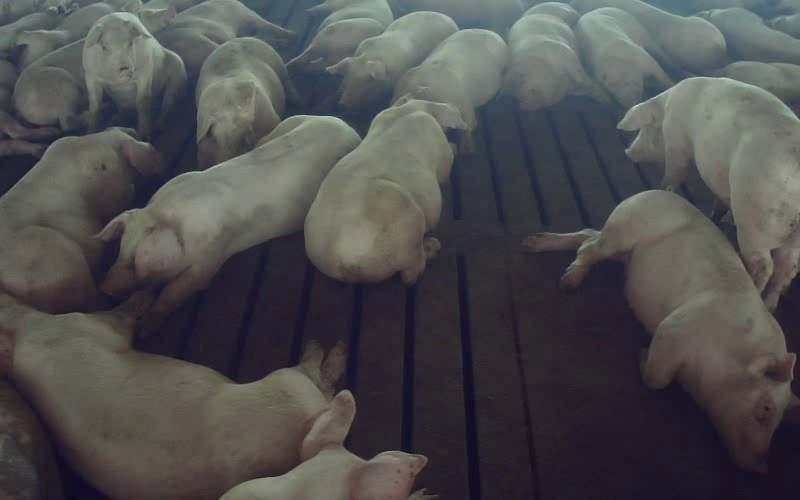pig: (527, 190, 794, 470), (100, 116, 359, 326), (618, 78, 799, 309), (304, 99, 466, 283), (0, 128, 161, 312), (322, 11, 457, 114), (196, 37, 297, 168), (82, 12, 186, 139), (393, 29, 507, 131), (572, 0, 727, 72), (504, 3, 607, 110), (155, 0, 293, 77), (574, 7, 671, 107), (699, 8, 799, 64)
